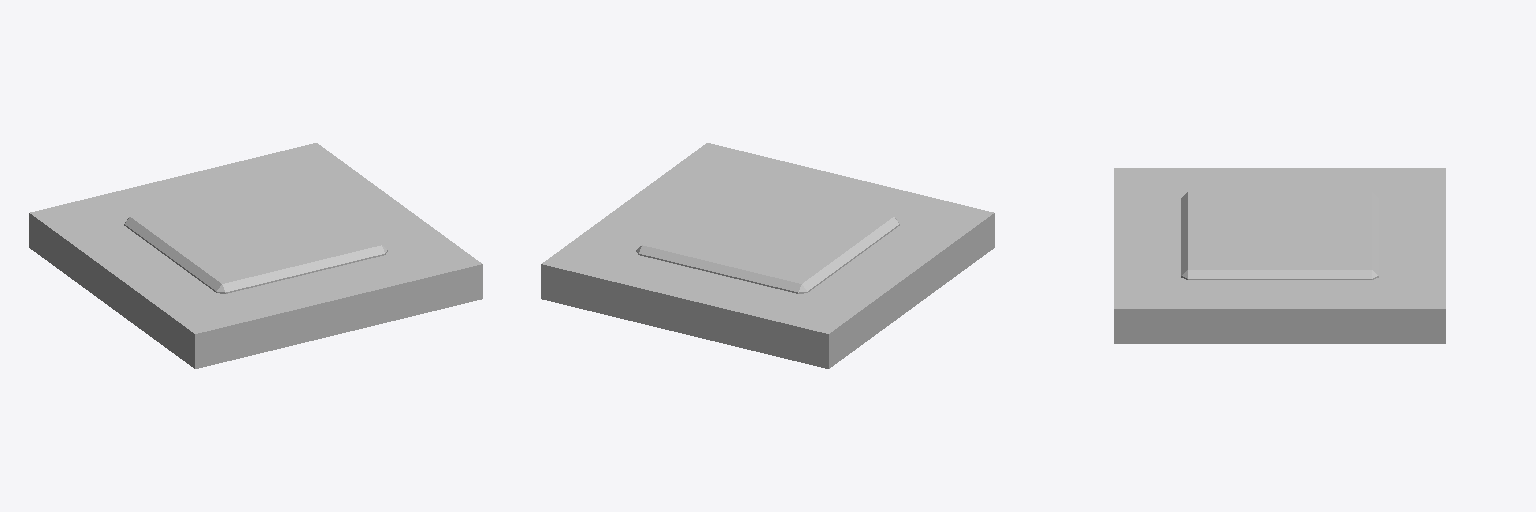
Rendered from tresh (Подставка под пушку).obj.
3 views of the same model, side by side, from view 1: azimuth 30°, elevation 25°; view 2: azimuth 150°, elevation 25°; view 3: azimuth 270°, elevation 25° (orthographic).
Visible parts, largest first — view 1: tresh (Подставка под пушку); view 2: tresh (Подставка под пушку); view 3: tresh (Подставка под пушку).
Boxes of the visible parts, box(x1,y1,x2,y2) form: tresh (Подставка под пушку): box(29, 143, 482, 368); tresh (Подставка под пушку): box(541, 143, 994, 368); tresh (Подставка под пушку): box(1114, 168, 1445, 343).
Bounding box in the file's own units: 3 × 0.5001 × 3.